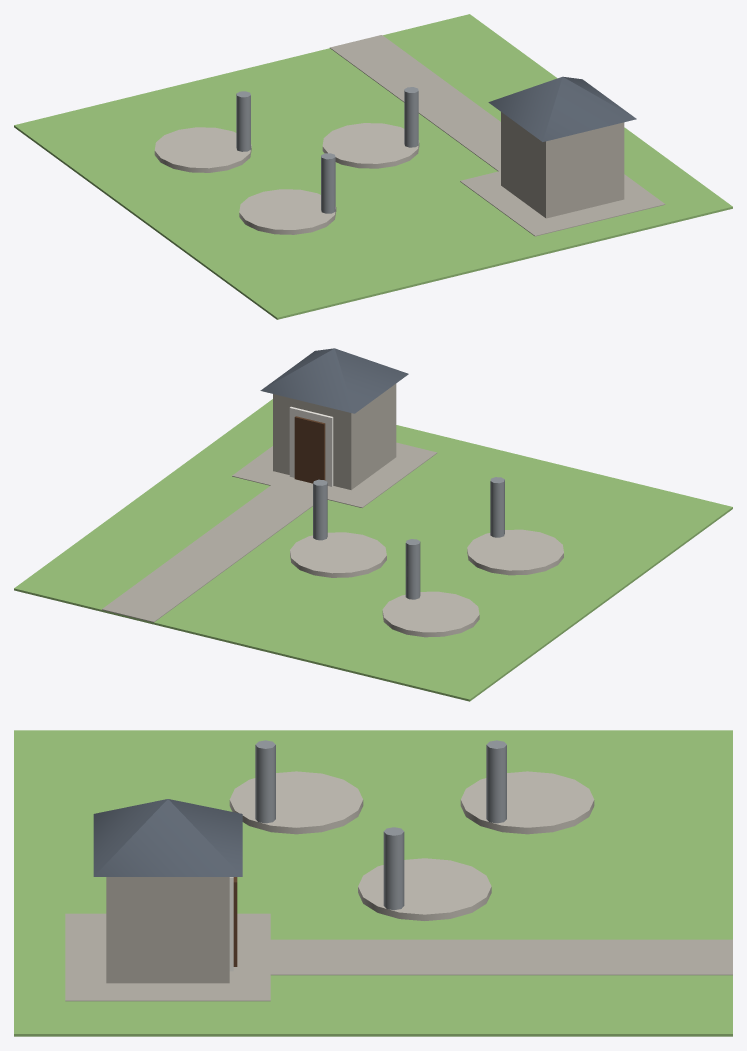
Rendered from septic.glb.
The picture shows the model from 3 angles, top to bottom: view 1: azimuth 30°, elevation 25°; view 2: azimuth 150°, elevation 25°; view 3: azimuth 270°, elevation 25°; orthographic projection. The views are drawn at different scales.
Parts seen in each view (by area): view 1: lawn, tank_lid (×3), hut, gravel_path, hut_roof, gravel_pad, vent_stack (×3); view 2: lawn, tank_lid (×3), gravel_path, hut, hut_roof, gravel_pad, vent_stack (×3), door, door_frame; view 3: lawn, tank_lid (×3), gravel_path, hut, hut_roof, gravel_pad, vent_stack (×3).
Boxes of the visible parts, x1=… form: lawn: x1=14, y1=14, x2=732, y2=319; tank_lid (×3): x1=154, y1=123, x2=419, y2=234; hut: x1=501, y1=112, x2=624, y2=218; gravel_path: x1=330, y1=35, x2=500, y2=171; hut_roof: x1=488, y1=76, x2=636, y2=141; gravel_pad: x1=460, y1=171, x2=665, y2=236; vent_stack (×3): x1=236, y1=87, x2=418, y2=213; lawn: x1=14, y1=399, x2=732, y2=701; tank_lid (×3): x1=290, y1=529, x2=563, y2=637; gravel_path: x1=102, y1=485, x2=312, y2=623; hut: x1=273, y1=384, x2=396, y2=489; hut_roof: x1=260, y1=348, x2=408, y2=413; gravel_pad: x1=232, y1=442, x2=437, y2=507; vent_stack (×3): x1=313, y1=477, x2=504, y2=599; door: x1=294, y1=416, x2=325, y2=483; door_frame: x1=289, y1=406, x2=333, y2=486; lawn: x1=14, y1=730, x2=732, y2=1036; tank_lid (×3): x1=229, y1=771, x2=594, y2=920; gravel_path: x1=270, y1=939, x2=732, y2=975; hut: x1=106, y1=877, x2=229, y2=983; hut_roof: x1=93, y1=799, x2=242, y2=876; gravel_pad: x1=65, y1=913, x2=270, y2=1001; vent_stack (×3): x1=255, y1=740, x2=506, y2=910.
Bounding box in the file's own units: 14 × 3.48 × 14.
